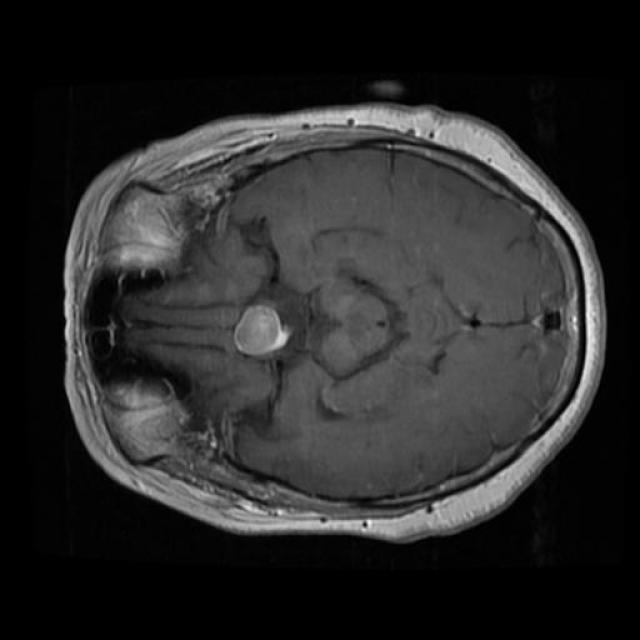Pituitary: (234, 304, 291, 357)
